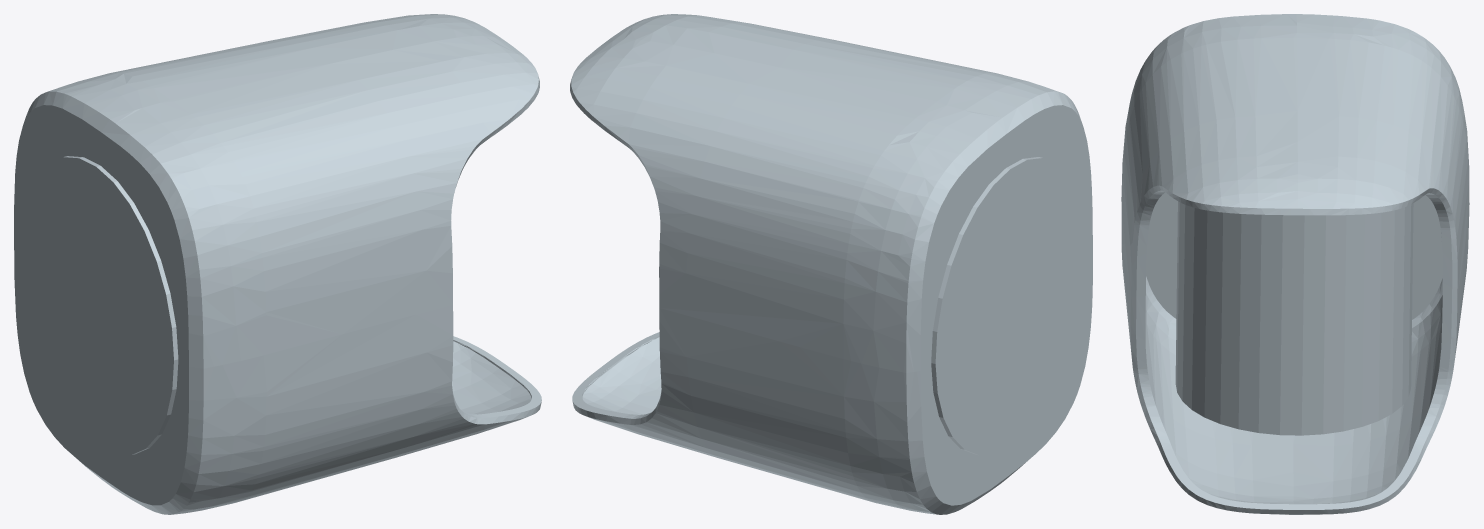
The model's file is right_wrist_roll_link.dae.
The picture shows the model from 3 angles, left to right: view 1: azimuth 30°, elevation 25°; view 2: azimuth 150°, elevation 25°; view 3: azimuth 270°, elevation 25°; orthographic projection. The views are drawn at different scales.
Visible parts, largest first — view 1: right_wrist_roll_link; view 2: right_wrist_roll_link; view 3: right_wrist_roll_link.
Part boxes in pixels (x1,y1,x2,y2): right_wrist_roll_link: (14,14,541,514); right_wrist_roll_link: (570,14,1092,514); right_wrist_roll_link: (1121,14,1469,514).
Bounding box in the file's own units: 0.0931 × 0.081 × 0.0739.
